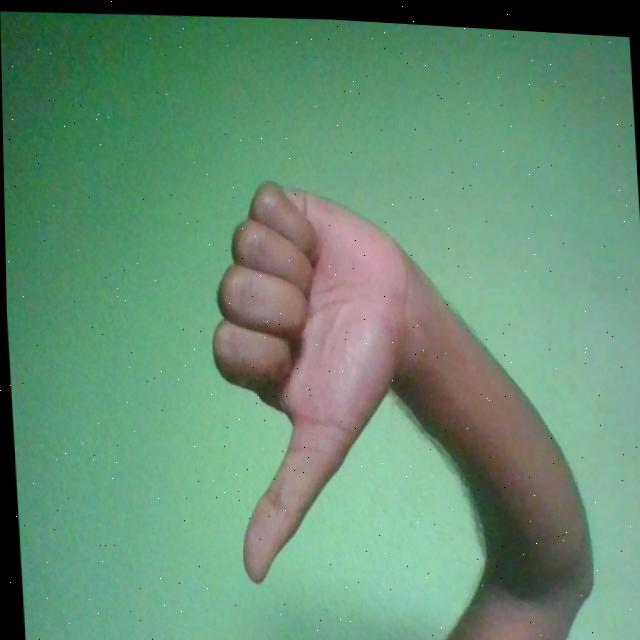Dislike: (200, 166, 424, 590)
